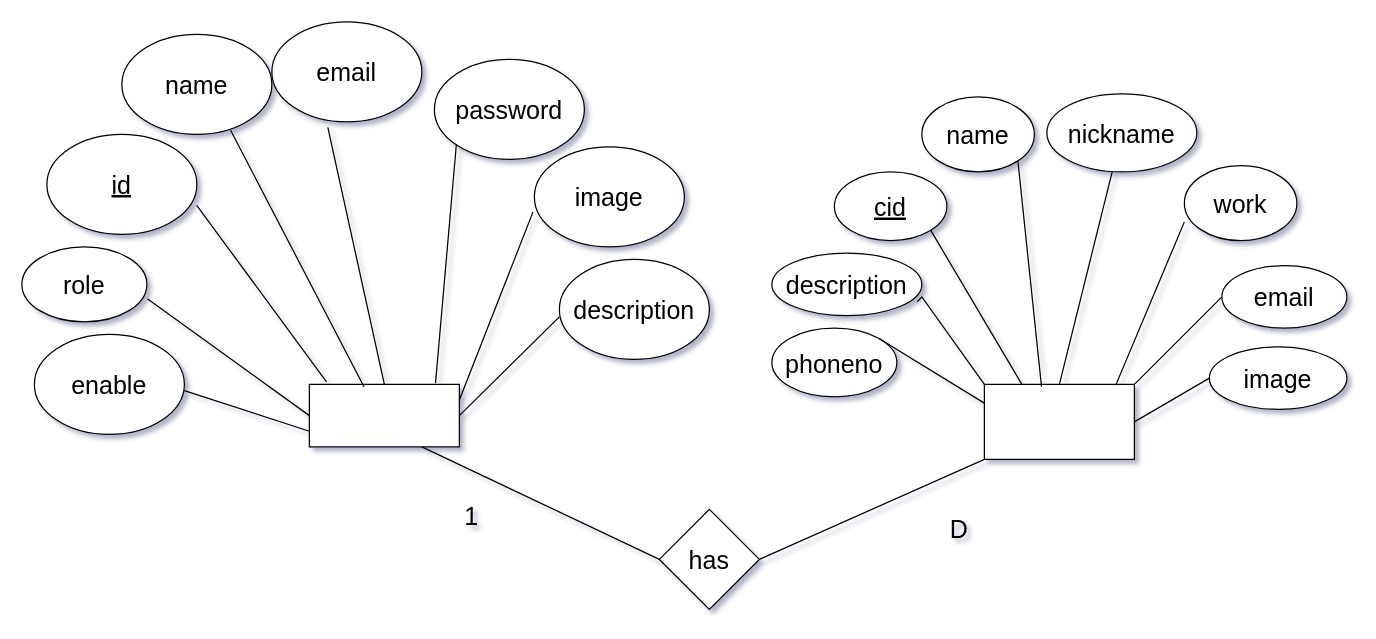
Some shapes in this 1376 by 639 pixel diagram are drawn without their labels. Here are the shapes that lost their labels. From the top down, the box of each, then its label:
(308, 383, 459, 447): USER
(983, 383, 1134, 459): contact
